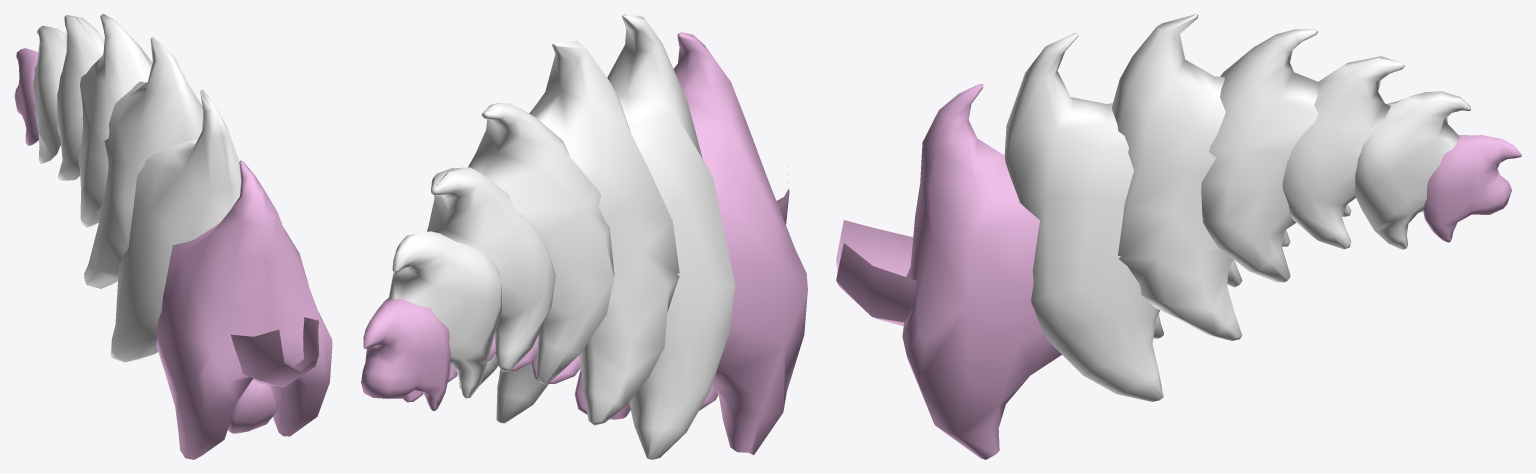
Rendered from Shrimp_Tail_Nylon.fbx.
The picture shows the model from 3 angles, left to right: view 1: azimuth 30°, elevation 25°; view 2: azimuth 150°, elevation 25°; view 3: azimuth 270°, elevation 25°; orthographic projection. The views are drawn at different scales.
Visible parts, largest first — view 1: tail_shell_low, Tail_shell_1_low, tail_shell_2_low, tail_shell_3_low, tail_shell_4_low, Guts_low, tail_shell_5_low, swimeret_low.013, tail_shell_end_low; view 2: Tail_shell_1_low, tail_shell_low, tail_shell_2_low, tail_shell_3_low, tail_shell_4_low, tail_shell_5_low, tail_shell_end_low, swimeret_low.011; view 3: tail_shell_low, Tail_shell_1_low, tail_shell_2_low, tail_shell_3_low, tail_shell_4_low, tail_shell_5_low, tail_shell_end_low, Guts_low.
Boxes of the visible parts, box(x1,y1,x2,y2) form: tail_shell_low: box(156, 160, 332, 459); Tail_shell_1_low: box(110, 89, 240, 362); tail_shell_2_low: box(84, 37, 203, 288); tail_shell_3_low: box(78, 14, 152, 227); tail_shell_4_low: box(57, 15, 104, 180); Guts_low: box(231, 317, 319, 387); tail_shell_5_low: box(33, 25, 66, 163); swimeret_low.013: box(228, 380, 278, 433); tail_shell_end_low: box(14, 48, 38, 145); Tail_shell_1_low: box(496, 14, 735, 459); tail_shell_low: box(610, 32, 807, 454); tail_shell_2_low: box(459, 41, 679, 425); tail_shell_3_low: box(468, 103, 614, 382); tail_shell_4_low: box(427, 167, 555, 372); tail_shell_5_low: box(389, 231, 501, 398); tail_shell_end_low: box(361, 297, 450, 411); swimeret_low.011: box(531, 355, 580, 384); tail_shell_low: box(902, 84, 1061, 459); Tail_shell_1_low: box(1004, 33, 1163, 401); tail_shell_2_low: box(1111, 14, 1242, 340); tail_shell_3_low: box(1201, 29, 1318, 282); tail_shell_4_low: box(1282, 56, 1404, 249); tail_shell_5_low: box(1354, 91, 1470, 249); tail_shell_end_low: box(1423, 135, 1521, 242); Guts_low: box(836, 220, 916, 326).
Bounding box in the file's own units: 34.66 × 82.29 × 123.
